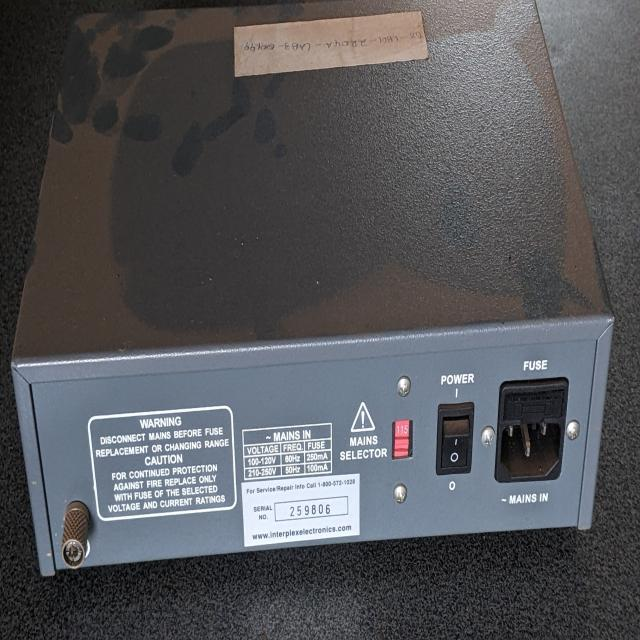A 200KHZ Function Generator: (7, 19, 620, 582)
